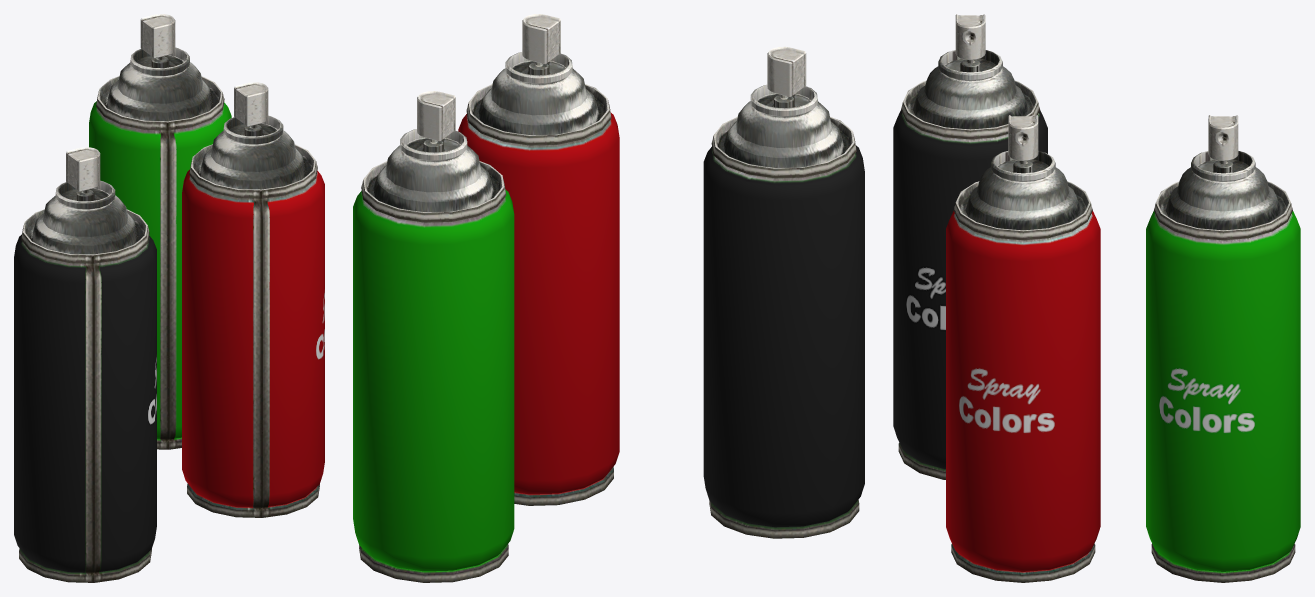
Rendered from Sprays.FBX.
3 views of the same model, side by side, from view 1: azimuth 30°, elevation 25°; view 2: azimuth 150°, elevation 25°; view 3: azimuth 270°, elevation 25° (orthographic). The views are drawn at different scales.
Visible parts, largest first — view 1: spray 3, spray 1, spray 2; view 2: spray 3, spray 2, spray 1; view 3: spray 2, spray 1, spray 3.
Boxes of the visible parts, <box> form: spray 3: <box>14,147,156,582</box>; spray 1: <box>182,82,324,517</box>; spray 2: <box>89,14,231,449</box>; spray 3: <box>703,46,864,538</box>; spray 2: <box>353,91,514,582</box>; spray 1: <box>458,14,619,505</box>; spray 2: <box>1146,115,1300,582</box>; spray 1: <box>946,115,1100,582</box>; spray 3: <box>893,14,1047,479</box>.
Bounding box in the file's own units: 16.3 × 19.72 × 16.88.
3 materials, 3 textured.
